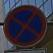No Parking: (3, 6, 48, 47)
